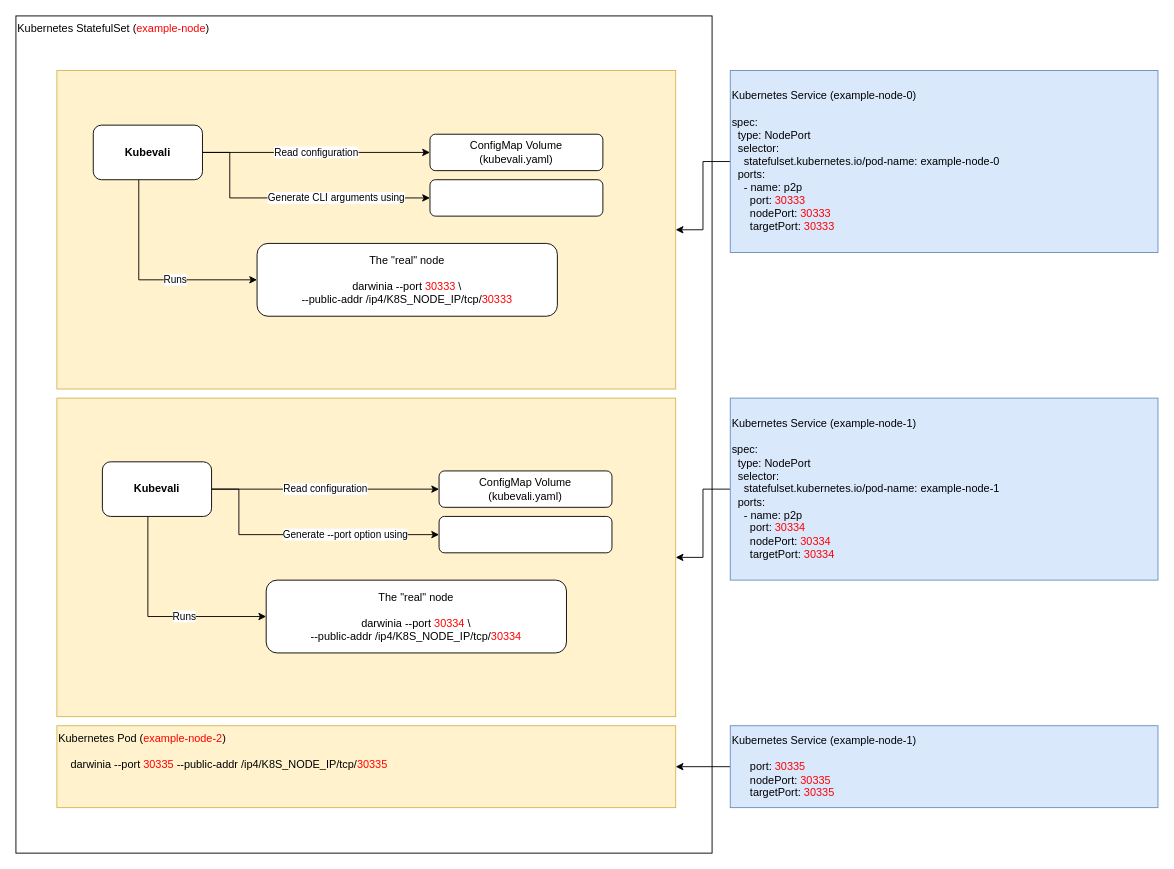
Image size: 1174x869. Some labels were removed from this diagram. The shapes that lost their labels are listed below. From the top down, each one's box as (x1, y1, x2, y2) in pixels, then its label:
(429, 179, 603, 216): Env var "$HOSTNAME" ( example-node-0 )
(56, 70, 676, 389): Kubernetes Pod ( example-node-0 )
(438, 516, 612, 553): Env var "$HOSTNAME" ( example-node-1 )
(56, 397, 676, 717): Kubernetes Pod ( example-node-1 )
